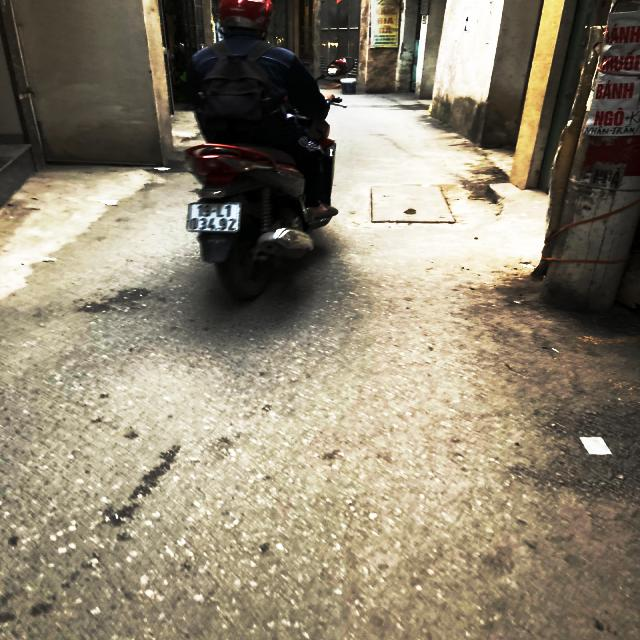license_plate: (180, 200, 252, 239)
